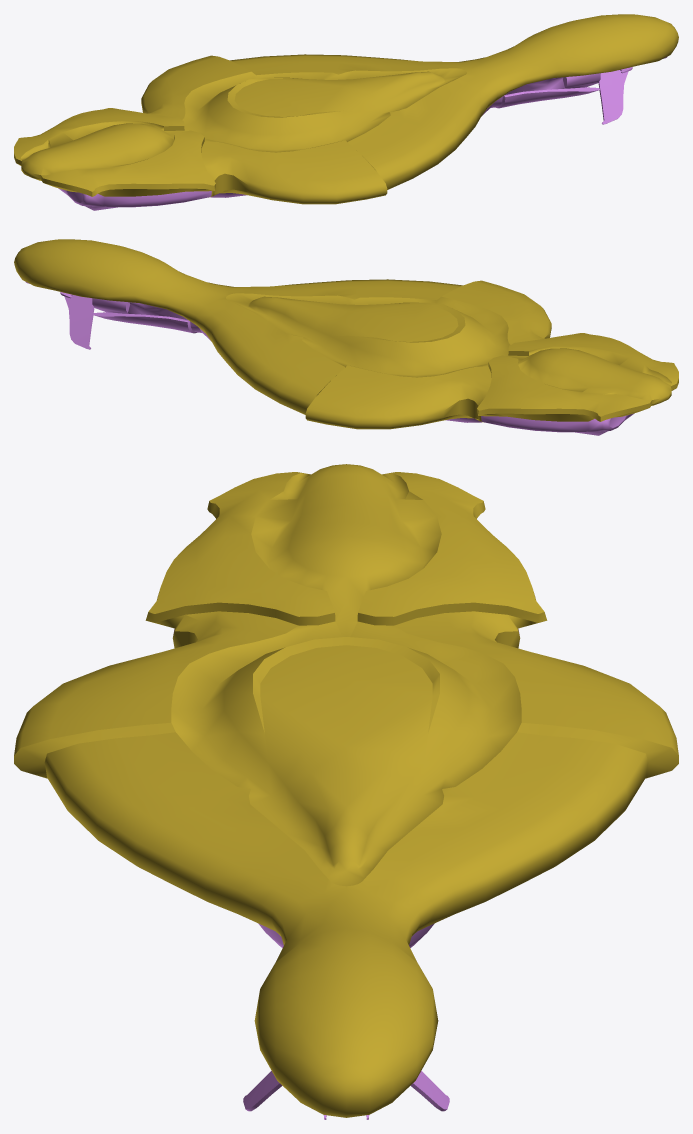
The model's file is cruiser.fbx.
The picture shows the model from 3 angles, top to bottom: view 1: azimuth 30°, elevation 25°; view 2: azimuth 150°, elevation 25°; view 3: azimuth 270°, elevation 25°; orthographic projection. The views are drawn at different scales.
Visible parts, largest first — view 1: cruiser; view 2: cruiser; view 3: cruiser.
Boxes of the visible parts, x1,y1,x2,y2 form: cruiser: (14, 14, 678, 210); cruiser: (14, 239, 678, 435); cruiser: (14, 464, 678, 1119).
Size of the model in its own units: 3814903 by 494028 by 1806031.
